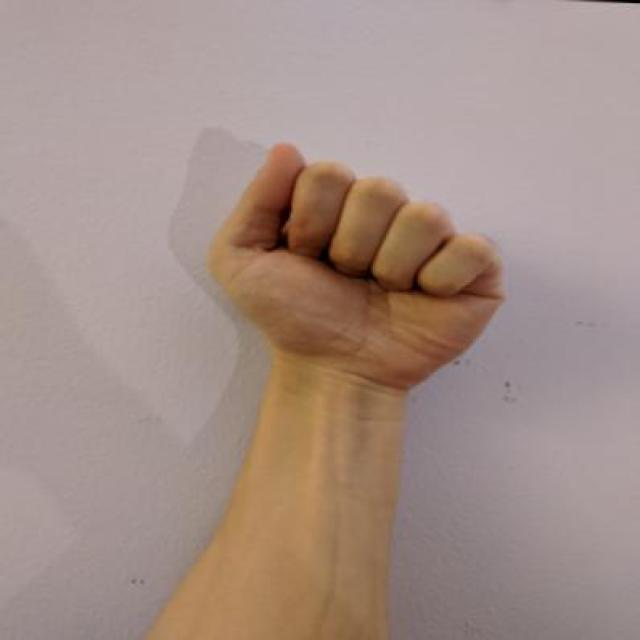A: (192, 130, 520, 402)
